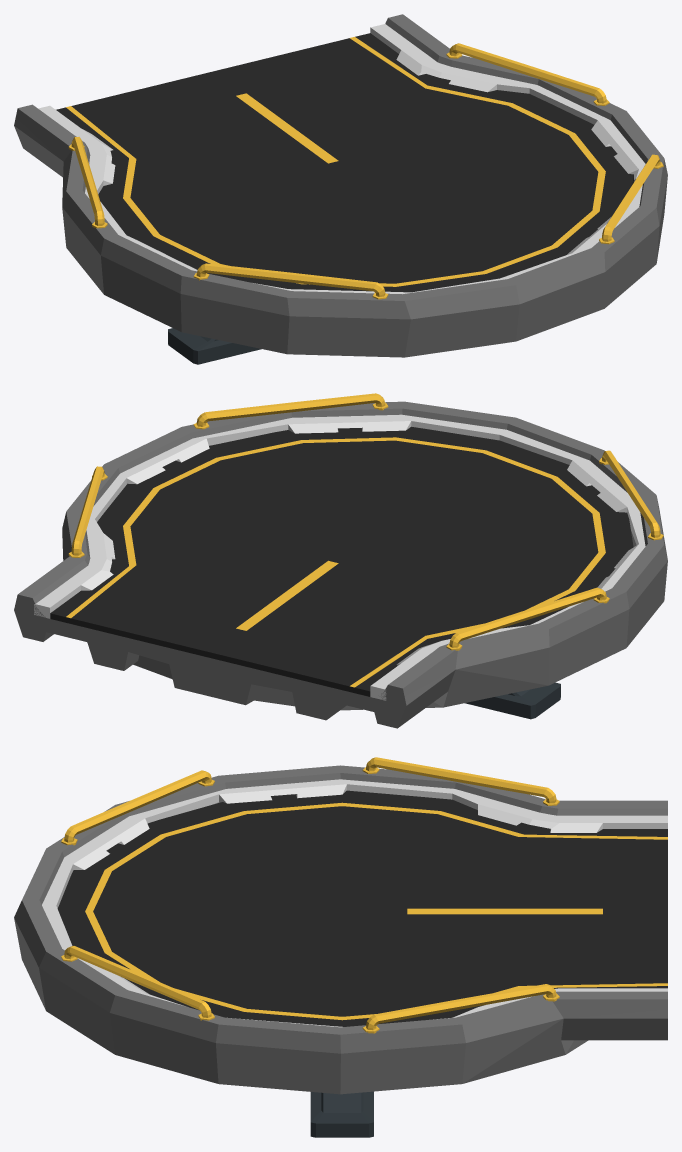
File: road_U.glb
3 views of the same model, one above another, from view 1: azimuth 30°, elevation 25°; view 2: azimuth 150°, elevation 25°; view 3: azimuth 270°, elevation 25° (orthographic). The views are drawn at different scales.
Visible parts, largest first — view 1: DIAOTOU, 立方体.010, 立方体.008, 柱体.001, 平面.004, 立方体.009, 平面.003; view 2: DIAOTOU, 立方体.010, 立方体.008, 柱体.001, 平面.004, 立方体.009, 平面.003; view 3: DIAOTOU, 立方体.010, 立方体.008, 柱体.001, 平面.004, 立方体.009, 平面.003.
Boxes of the visible parts, x1,y1,x2,y2 form: DIAOTOU: (56,33,633,292); 立方体.010: (14,14,667,357); 立方体.008: (38,24,645,294); 柱体.001: (68,43,663,299); 平面.004: (66,37,605,286); 立方体.009: (168,328,261,364); 平面.003: (236,93,338,163); DIAOTOU: (50,426,633,696); 立方体.010: (14,401,667,728); 立方体.008: (34,414,645,700); 柱体.001: (68,393,663,650); 平面.004: (66,437,605,687); 立方体.009: (465,682,560,719); 平面.003: (236,560,338,630); DIAOTOU: (57,790,667,1026); 立方体.010: (14,765,667,1094); 立方体.008: (42,779,667,1027); 柱体.001: (61,757,559,1033); 平面.004: (85,802,667,1020); 立方体.009: (310,1091,373,1137); 平面.003: (407,908,602,914).
Size of the model in its own units: 9.9 by 2.65 by 10.04.
